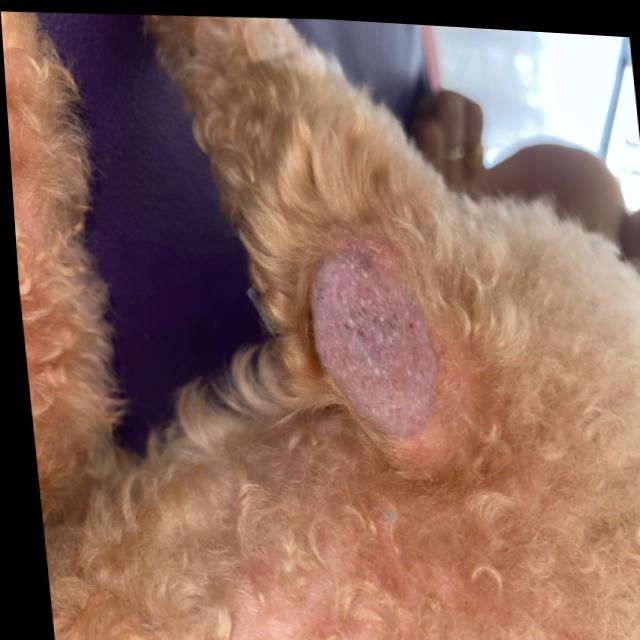ringworm: (278, 242, 503, 503)
